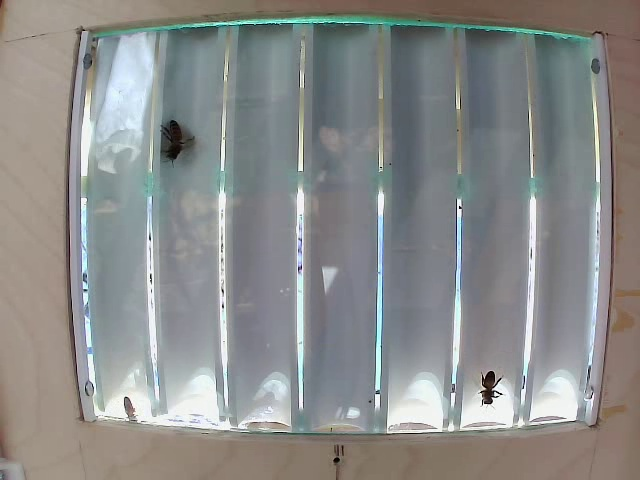bee: (458, 367, 521, 409), (168, 111, 192, 169)
